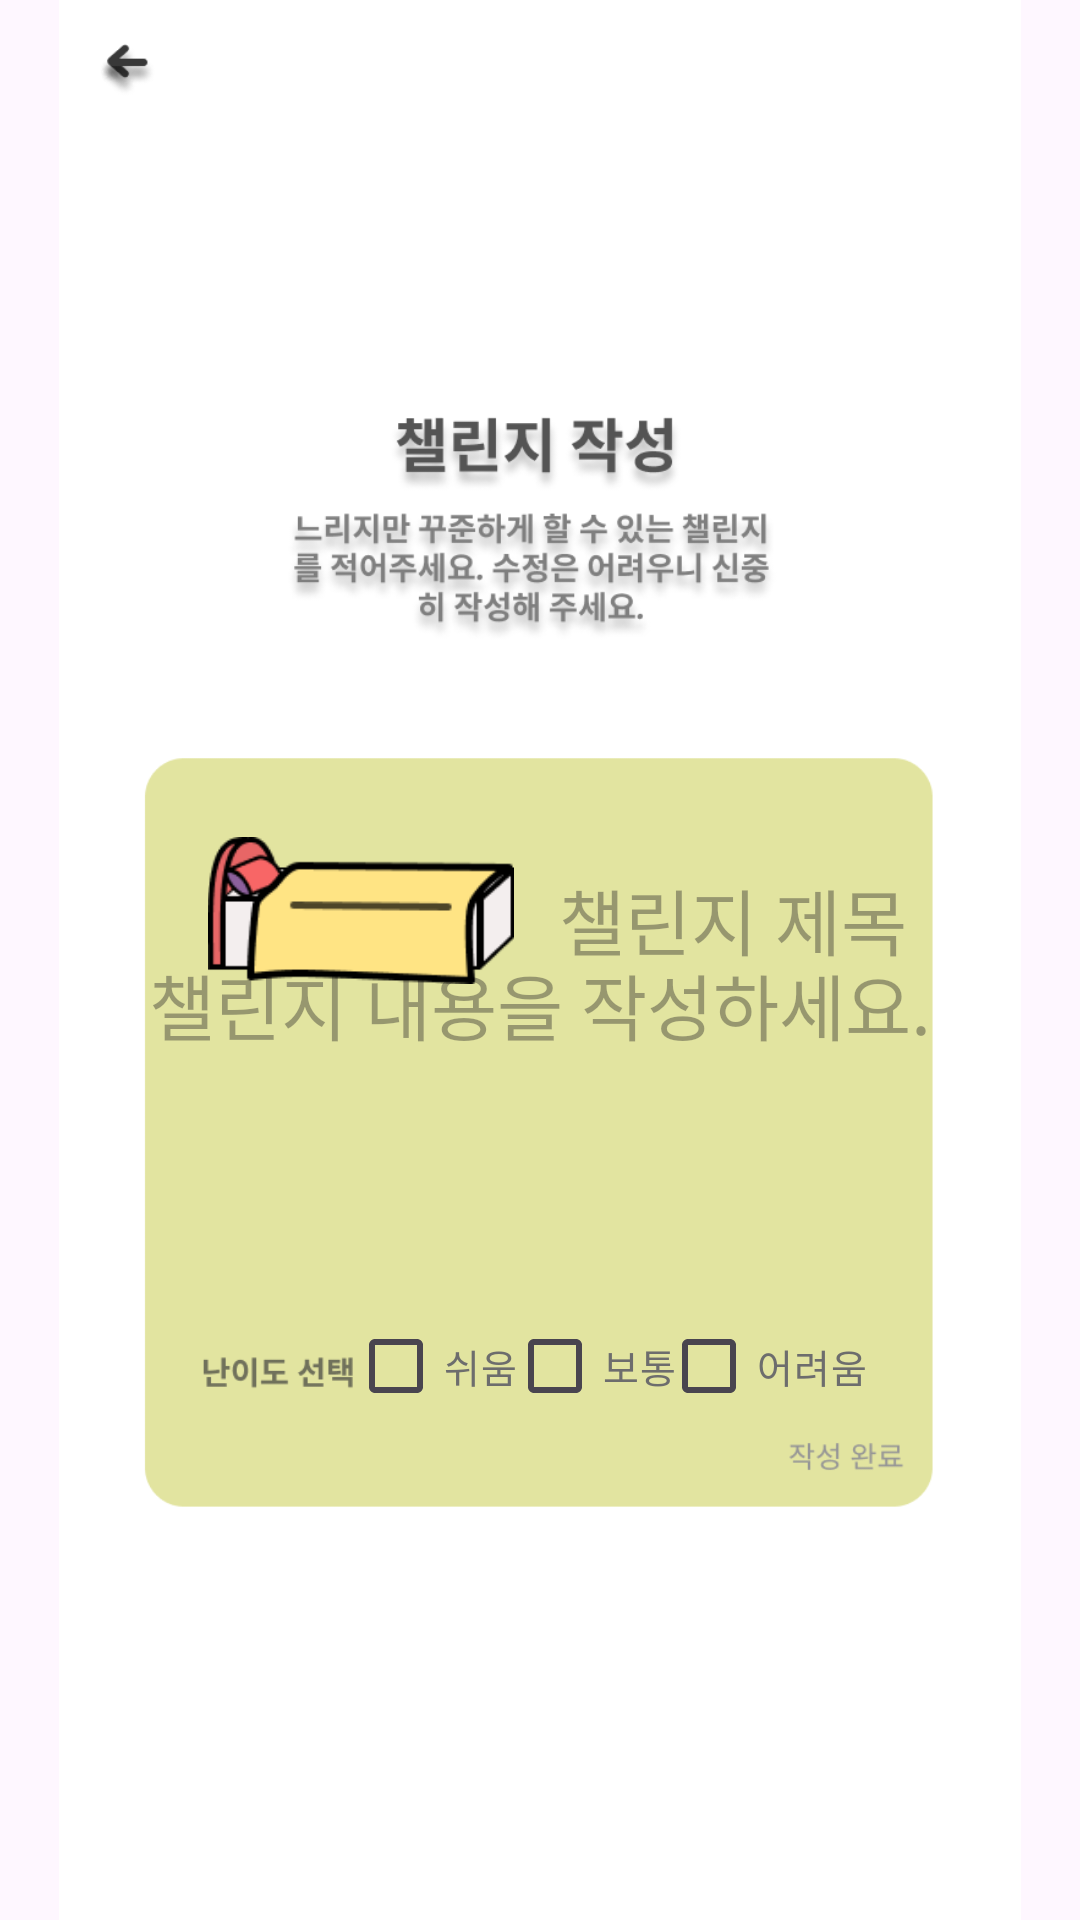

Named icons in this screenshot (1080px×1920px) and their bounding boxes, (x1, y1, x2, y2):
challenge sticker bed: (202, 837, 520, 984)
